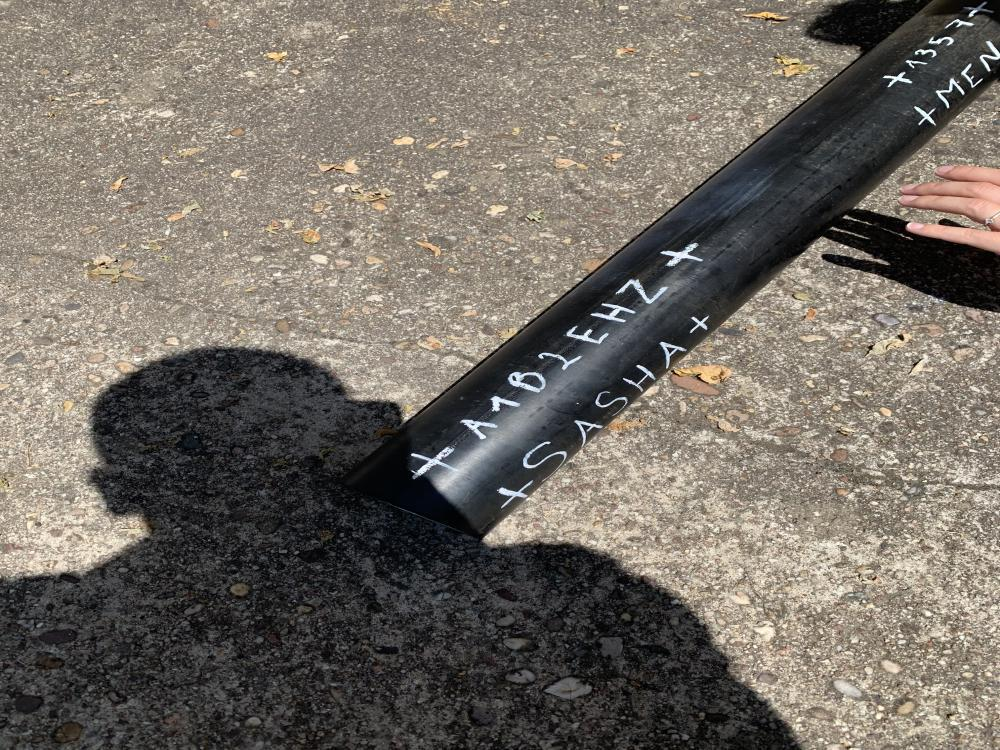+: (410, 446, 460, 481), (496, 480, 533, 507), (659, 244, 703, 266), (956, 0, 999, 21), (913, 106, 938, 127), (882, 71, 912, 87), (687, 316, 710, 334)
1: (490, 395, 522, 411), (904, 59, 927, 68)
2: (538, 351, 582, 369)
3: (915, 48, 938, 58)
5: (926, 31, 957, 50)
7: (944, 17, 974, 36)
A: (574, 417, 604, 448), (460, 418, 498, 441), (657, 342, 688, 370)
B: (509, 371, 547, 392)
E: (567, 325, 610, 344), (960, 64, 983, 88)
H: (590, 302, 637, 324), (623, 364, 656, 392)
M: (936, 78, 964, 108)
N: (980, 41, 999, 72)
S: (523, 441, 570, 482), (596, 391, 630, 416)
Z: (616, 280, 666, 304)
